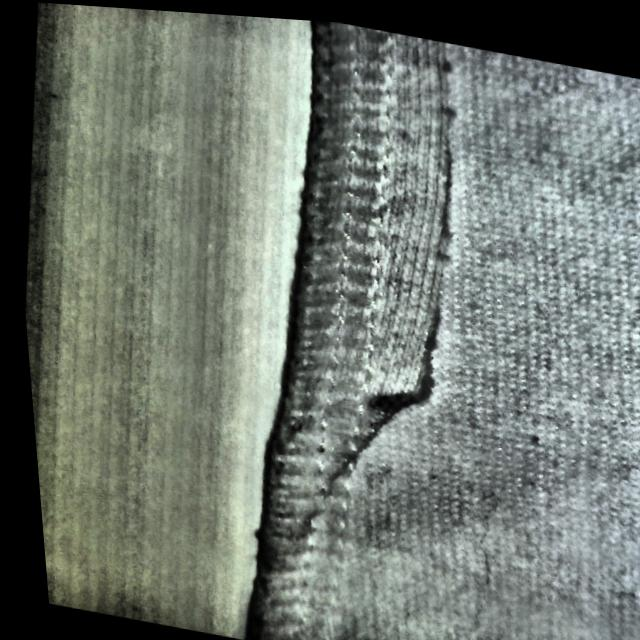seam: (254, 13, 524, 465)
